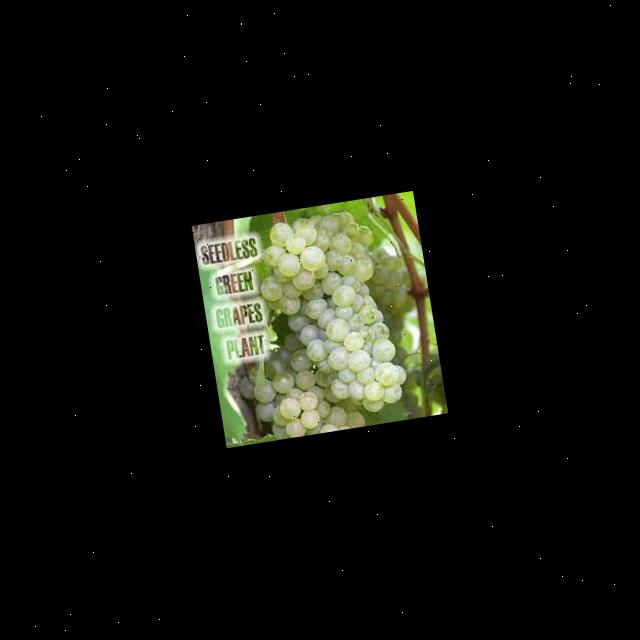grape: (212, 202, 418, 444)
